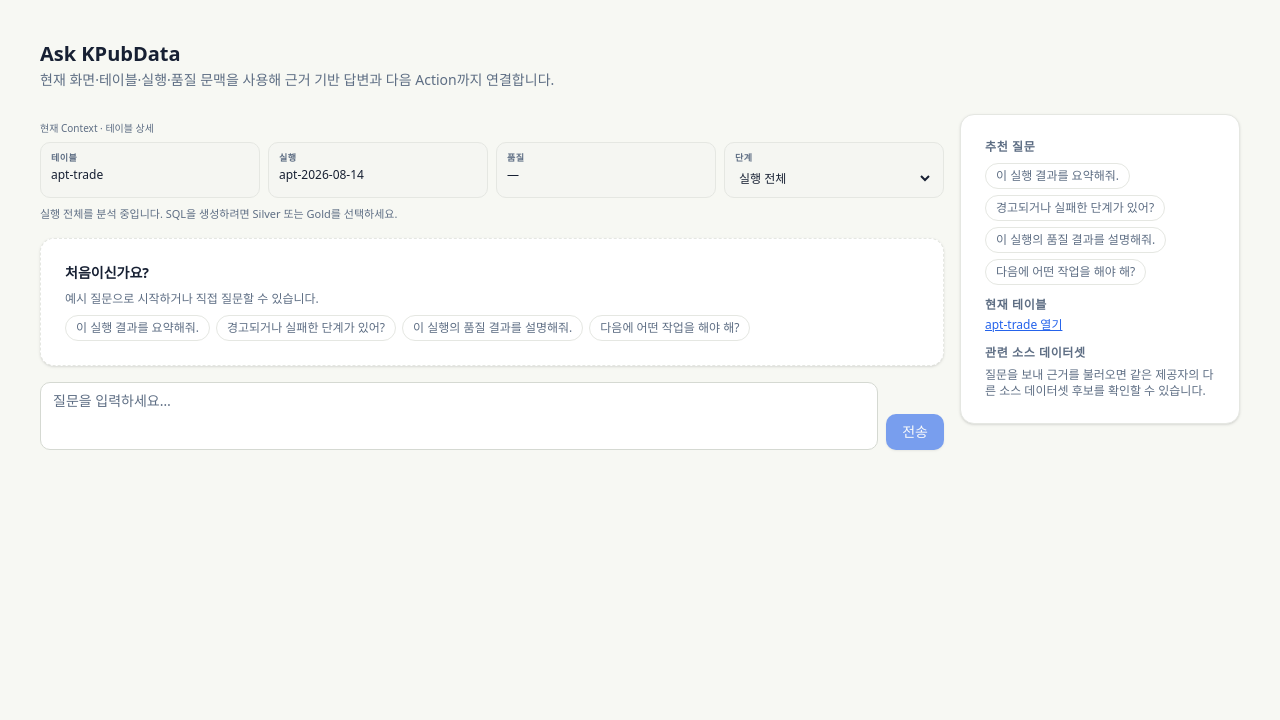
Test: Ask KPubData PATCH_BUILDSPEC badge (#Phase2 UI polish) › badge 표시가 pending_approval → approve → preview/SpecDiff → confirm 흐름을 바꾸지 않는다
The width and height of the screenshot is (1280, 720).
Type "metadata에 노트 추가해줘" into the text box named "Ask KPubData 에 질문하기" at (459, 416), box top-left (40, 382), bottom-right (878, 450)
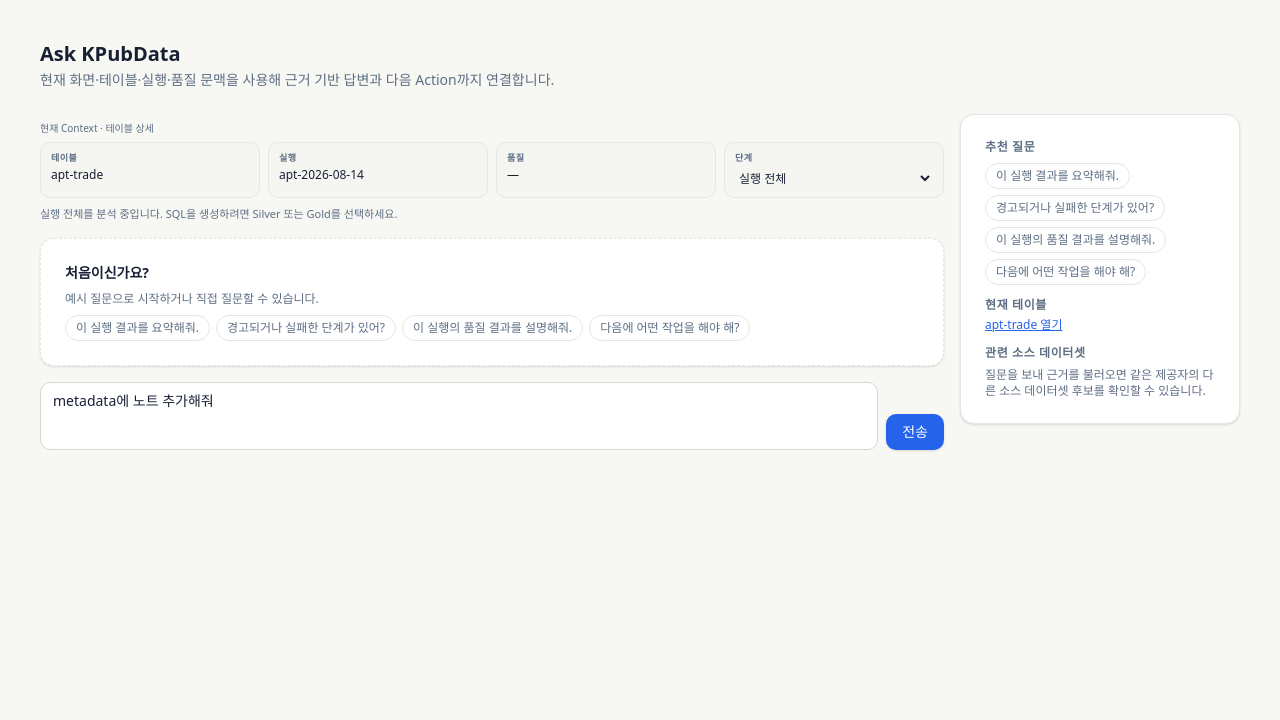
Submit the form named "Ask KPubData 에 질문하기", box top-left (40, 382), bottom-right (944, 450)
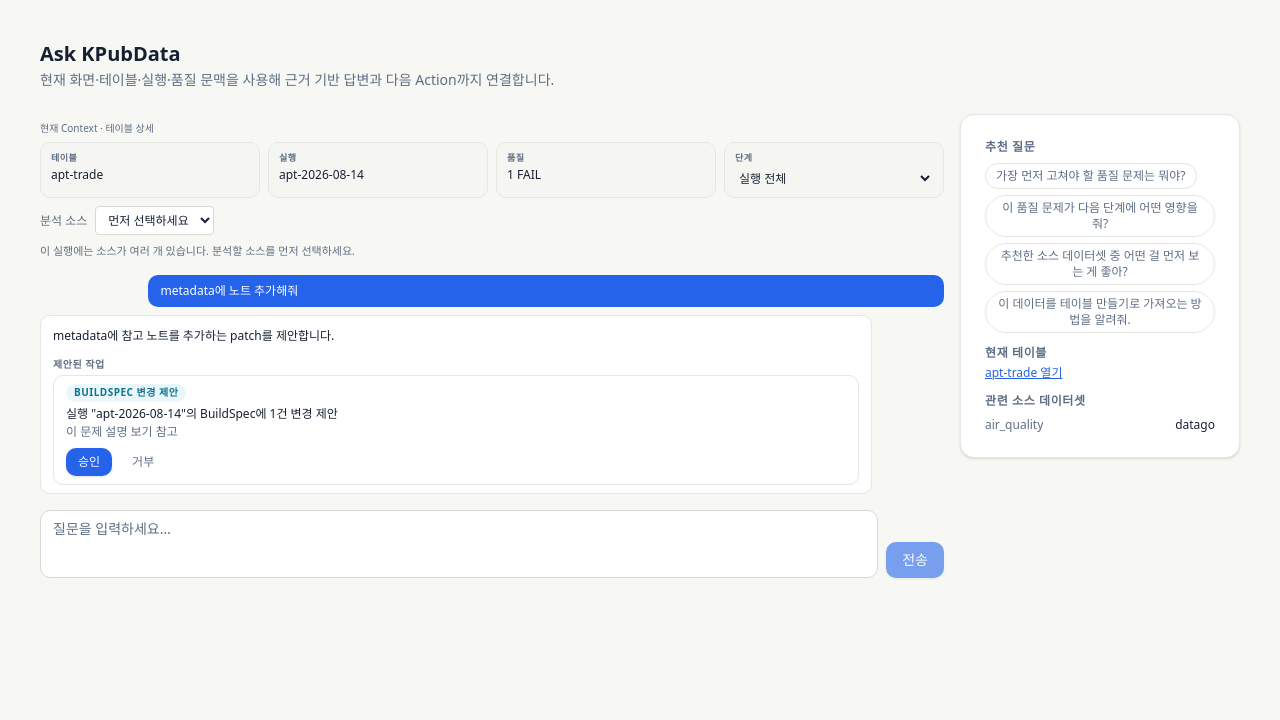
Expected: the text "metadata.note" is not shown
Result: the text "BuildSpec 변경 제안" is shown at top-left (66, 384), bottom-right (186, 402)
Click the button "승인" at (89, 462), box top-left (66, 448), bottom-right (112, 476)
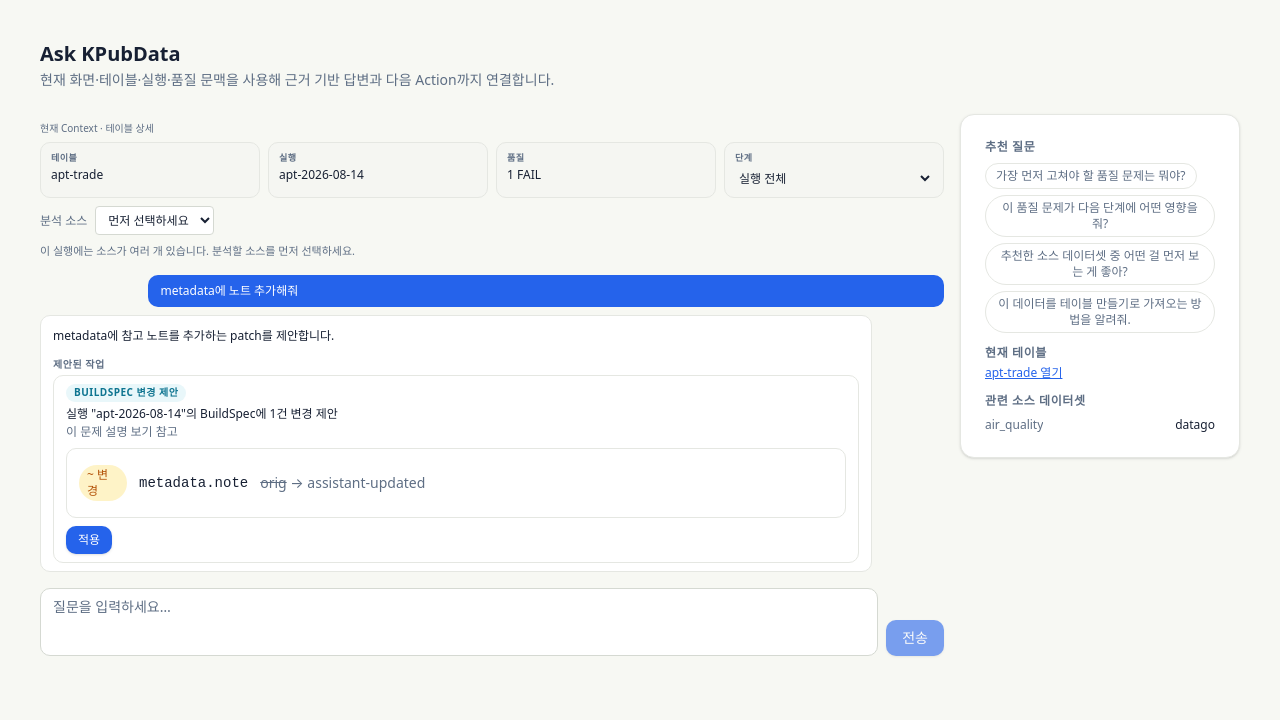
Result: the text "BuildSpec 변경 제안" is shown at top-left (66, 384), bottom-right (186, 402)
Result: the list item "metadata.note" shows "assistant-updated" at top-left (307, 473), bottom-right (425, 492)
Click the button "적용" at (89, 540), box top-left (66, 526), bottom-right (112, 554)
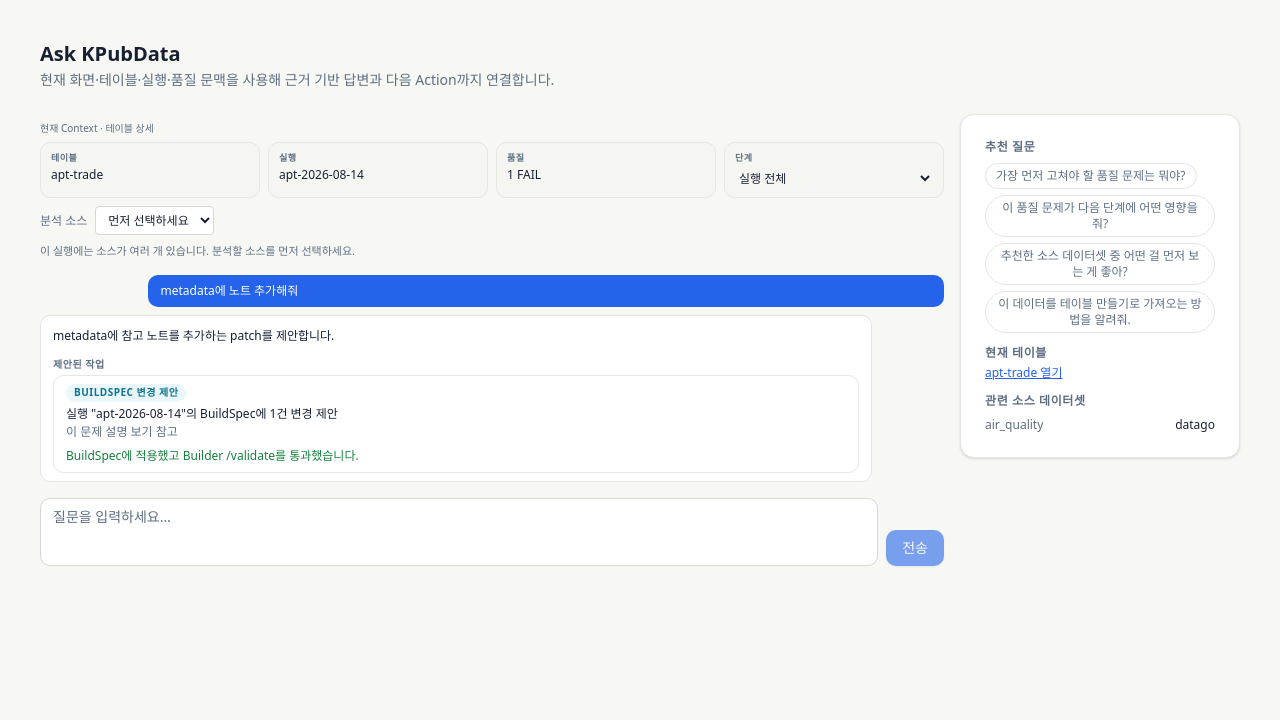
Result: the text "BuildSpec 변경 제안" is shown at top-left (66, 384), bottom-right (186, 402)
Result: the text "BuildSpec에 적용했고 Builder /validate를 통과했습니다." is shown at top-left (66, 448), bottom-right (359, 464)
